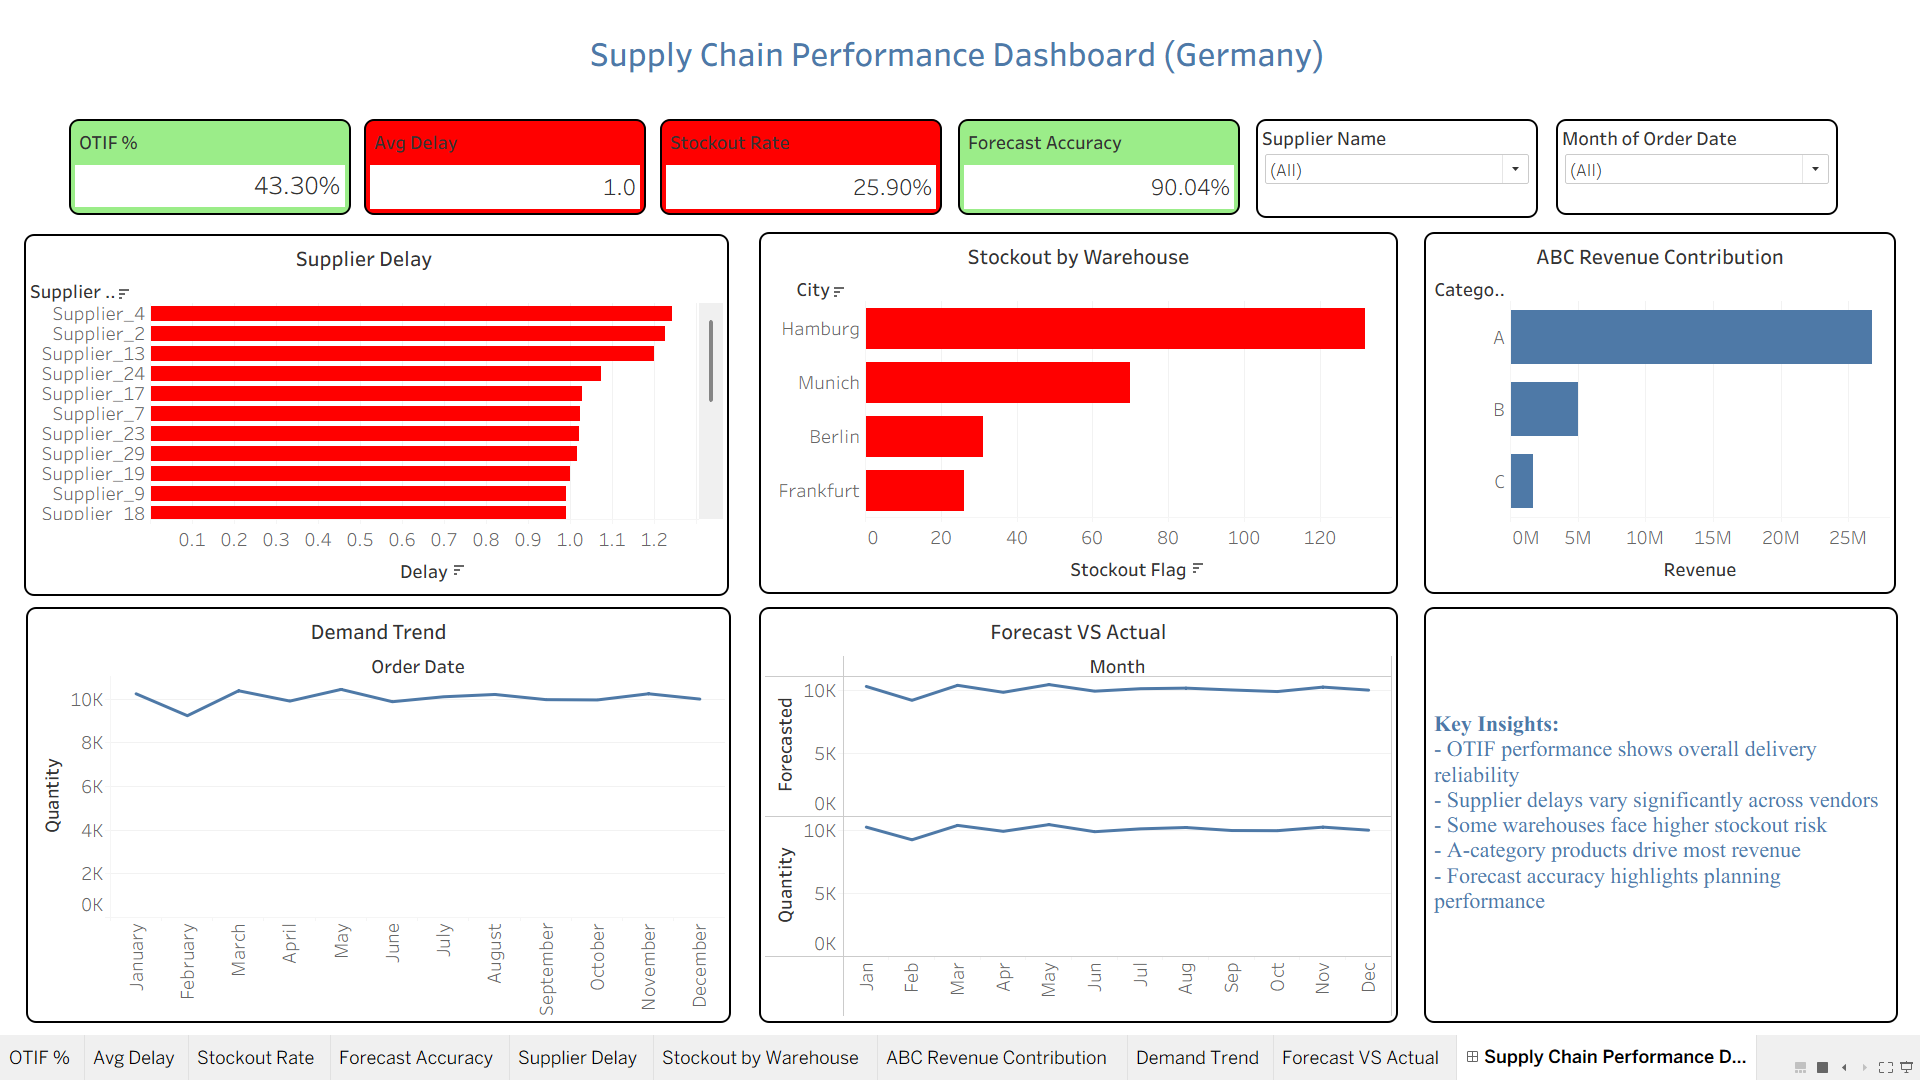

Layout of this report page (visuals, bound fields, positions):
{"tool":"tableau","page":{"name":"Supply Chain Performance Dashboard (Germany)","canvas":[1000,1000],"units":"permille","ordinal":0},"visuals":[{"type":"text","box":[6.2,11.2,984.4,79.4]},{"type":"worksheet","title":"OTIF %","mark":"Automatic","box":[36.2,115.4,147.1,93]},{"type":"worksheet","title":"Avg Delay","mark":"Automatic","box":[189.5,115.4,147.1,93]},{"type":"worksheet","title":"Stockout Rate","mark":"Automatic","box":[343.5,115.4,147.1,93]},{"type":"worksheet","title":"Forecast Accuracy","mark":"Automatic","box":[498.8,115.4,147.1,93]},{"type":"filter","title":"Supplier Delay","param":"[federated.18lyhu30lqwxx01cssli80lh04bk].[none:supplier_name:nk]","box":[654,115.4,147.1,95.5]},{"type":"filter","title":"Demand Trend","param":"[federated.0o0q2931myc9fu19rj9280gud0c9].[mn:order_date:ok]","box":[810.5,115.4,147.1,93]},{"type":"worksheet","title":"Stockout by Warehouse","mark":"Automatic","rows":["city"],"cols":["stockout_flag"],"box":[395.3,224.6,332.9,349.9]},{"type":"worksheet","title":"ABC Revenue Contribution","mark":"Automatic","rows":["category_class"],"cols":["revenue"],"box":[741.9,224.6,245.6,349.9]},{"type":"worksheet","title":"Supplier Delay","mark":"Automatic","rows":["supplier_name"],"cols":["delay"],"box":[12.5,225.8,367.2,349.9]},{"type":"worksheet","title":"Demand Trend","mark":"Line","rows":["quantity"],"cols":["order_date"],"box":[13.7,586.9,367.2,402]},{"type":"worksheet","title":"Forecast VS Actual","mark":"Line","rows":["forecast_quantity","quantity"],"cols":["month"],"box":[395.3,586.9,332.9,402]},{"type":"text","box":[741.9,586.9,246.9,402]}]}

Visuals, with their boxes on the dashboard's canvas, which has no fixed pixel size, in thousandths of its width and height (x1, y1, x2, y2). These are canvas units, not pixel positions in the 1920x1080 screenshot, which may show the page scaled, cropped or inside an application window:
text: rect(6, 11, 991, 91)
"OTIF %" worksheet: rect(36, 115, 183, 208)
"Avg Delay" worksheet: rect(190, 115, 337, 208)
"Stockout Rate" worksheet: rect(344, 115, 491, 208)
"Forecast Accuracy" worksheet: rect(499, 115, 646, 208)
"Supplier Delay" filter: rect(654, 115, 801, 211)
"Demand Trend" filter: rect(810, 115, 958, 208)
"Stockout by Warehouse" worksheet: rect(395, 225, 728, 574)
"ABC Revenue Contribution" worksheet: rect(742, 225, 988, 574)
"Supplier Delay" worksheet: rect(12, 226, 380, 576)
"Demand Trend" worksheet (Line marks): rect(14, 587, 381, 989)
"Forecast VS Actual" worksheet (Line marks): rect(395, 587, 728, 989)
text: rect(742, 587, 989, 989)
